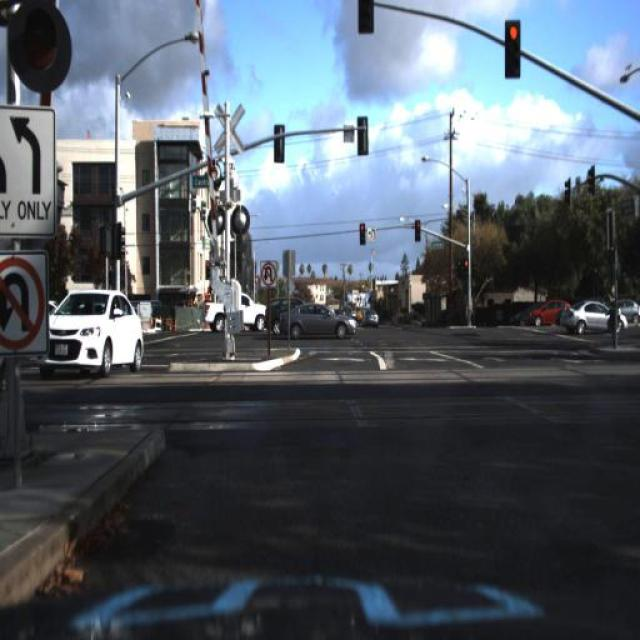car: (35, 288, 144, 381), (278, 299, 354, 347), (198, 291, 268, 338), (562, 300, 628, 334), (529, 296, 575, 330)
trafficLight-Green: (11, 2, 69, 88), (356, 1, 376, 34)
trafficLight-RedLeft: (503, 18, 522, 78), (412, 213, 423, 246), (462, 252, 471, 284), (358, 218, 367, 248)
